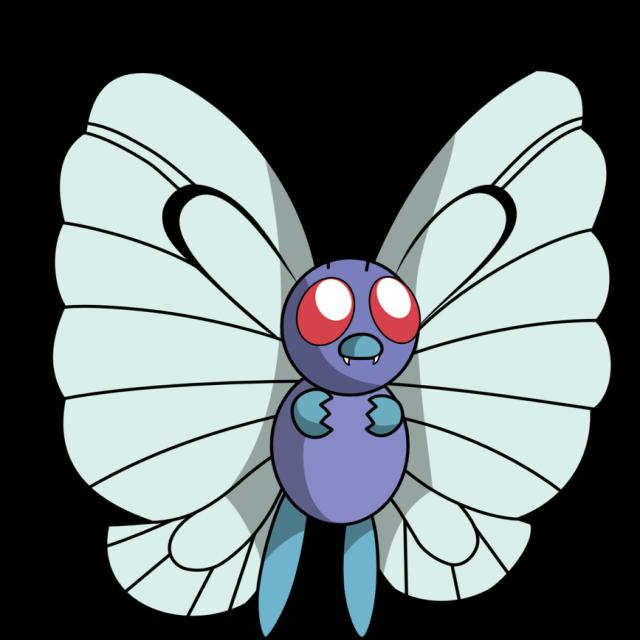Butterfree: (160, 184, 510, 562)
